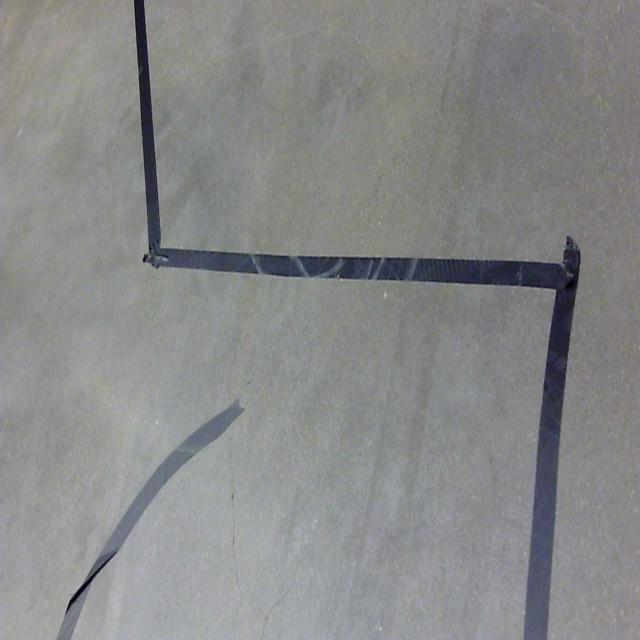tape: (134, 0, 583, 640), (54, 402, 244, 640)
